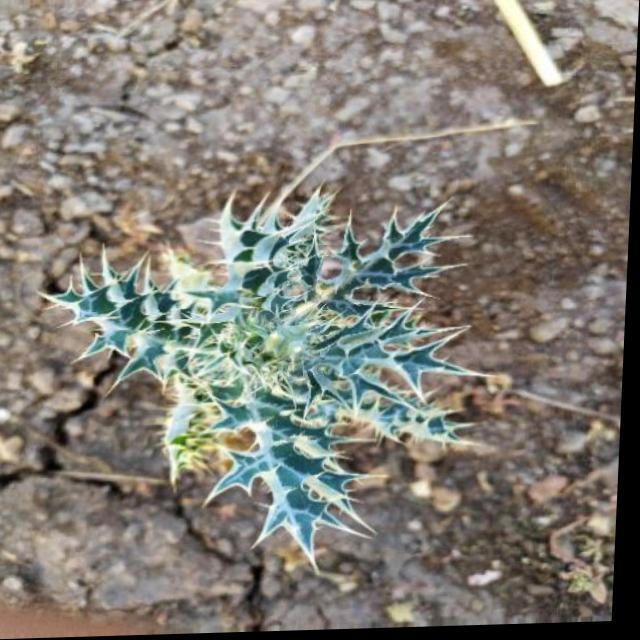weed: (43, 163, 482, 569)
